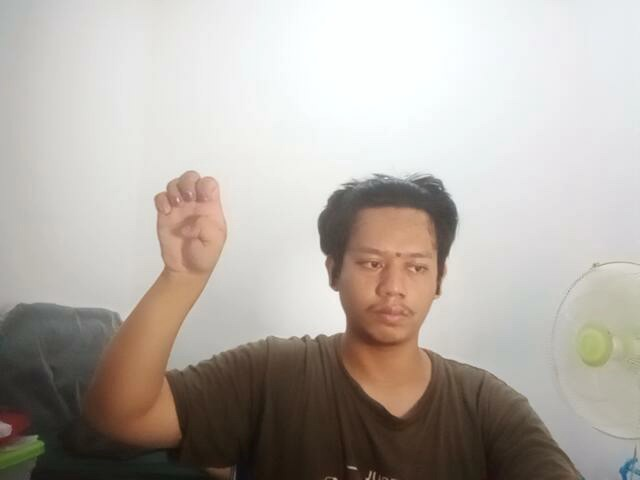E: (137, 169, 252, 282)
